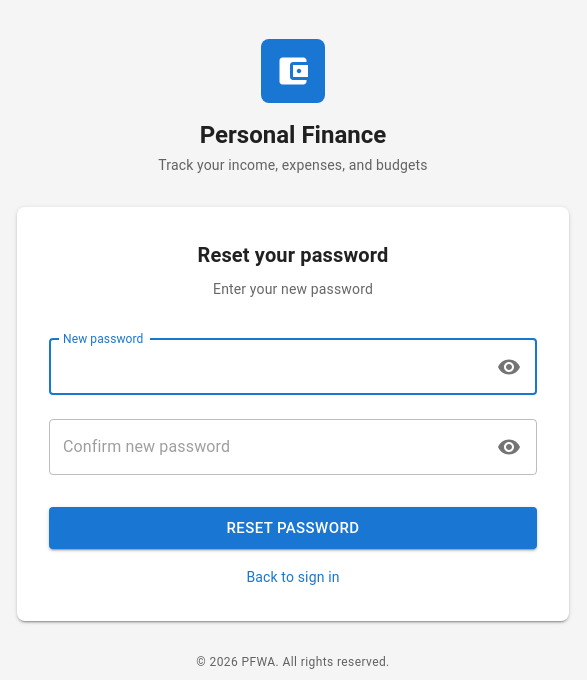
Test case: ResetPasswordPage › should show validation error for mismatched passwords
Step 1. Type "SecurePass123!" into the password field labelled "New password" → x=266, y=367, box [49,339,484,395]
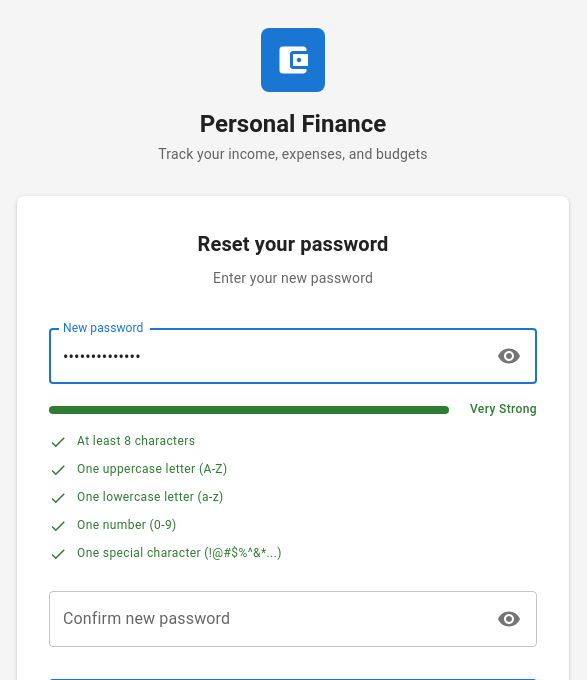
Step 2. Type "DifferentPass123!" into the password field labelled "Confirm new password" → x=266, y=620, box [49,592,484,648]
(page scrolled)
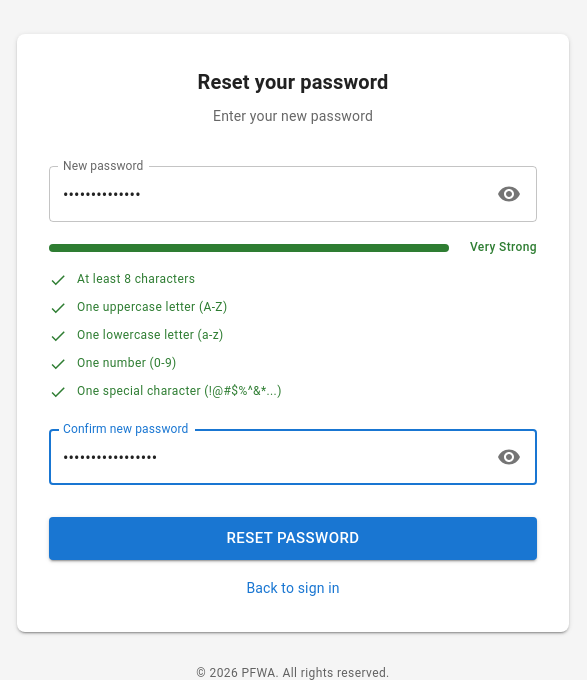
Step 3. Click the button "Reset password" → x=293, y=539, box [49,518,537,560]
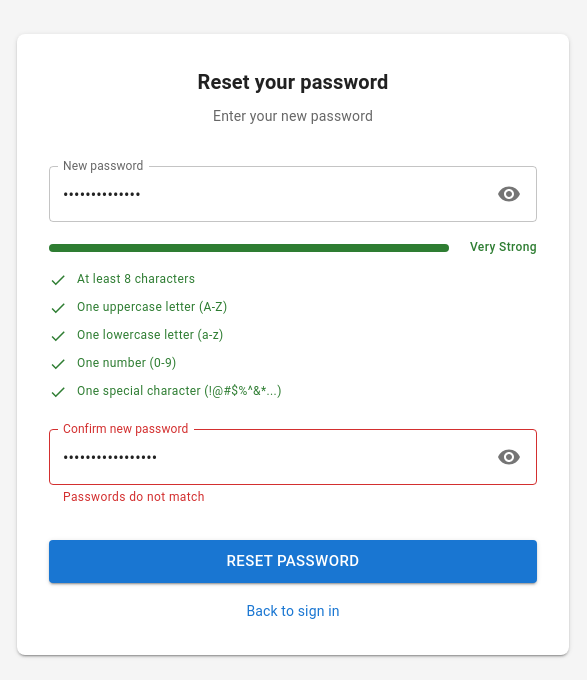
Check: the text "Passwords do not match" is shown, box [63,490,205,504]
